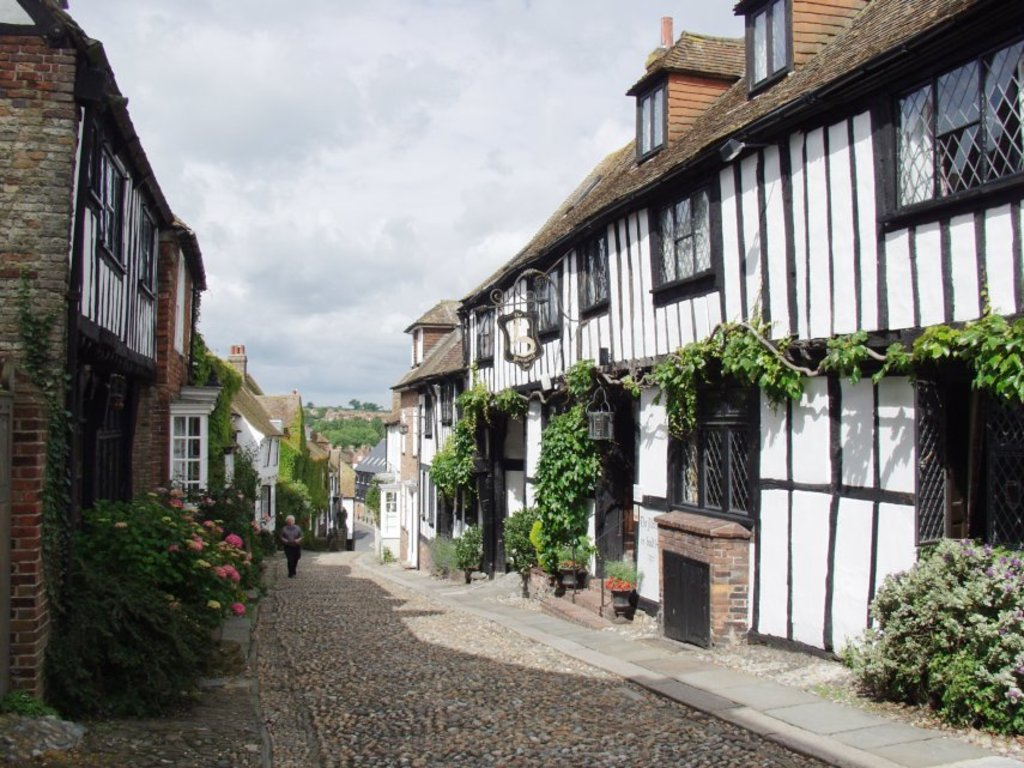Window: (879, 32, 1023, 224), (65, 111, 127, 351), (646, 171, 728, 304), (122, 208, 163, 365), (169, 405, 219, 507), (576, 219, 608, 314)
